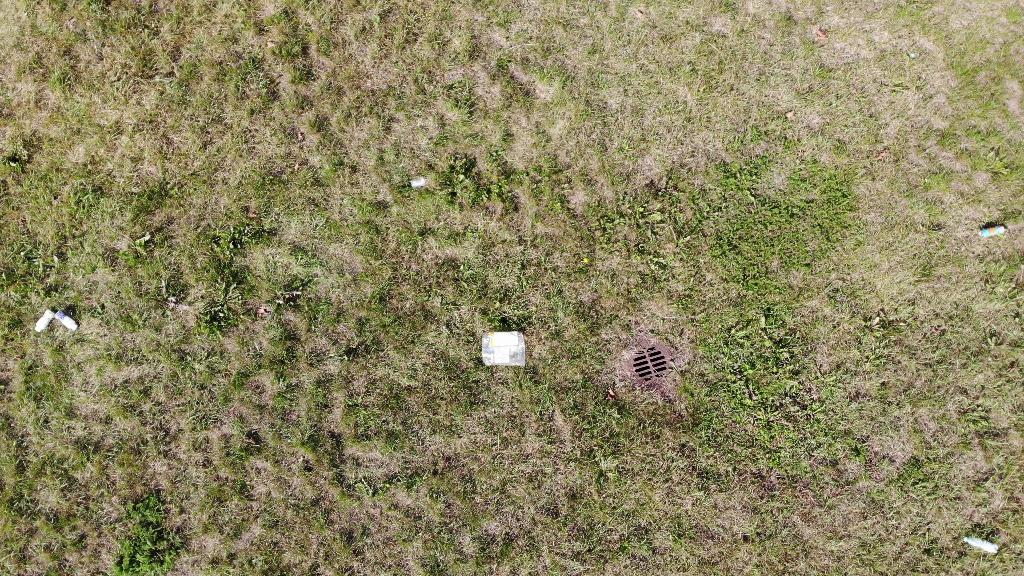garbage: (480, 325, 529, 371), (964, 533, 1000, 557), (31, 304, 52, 339), (53, 307, 79, 335)
